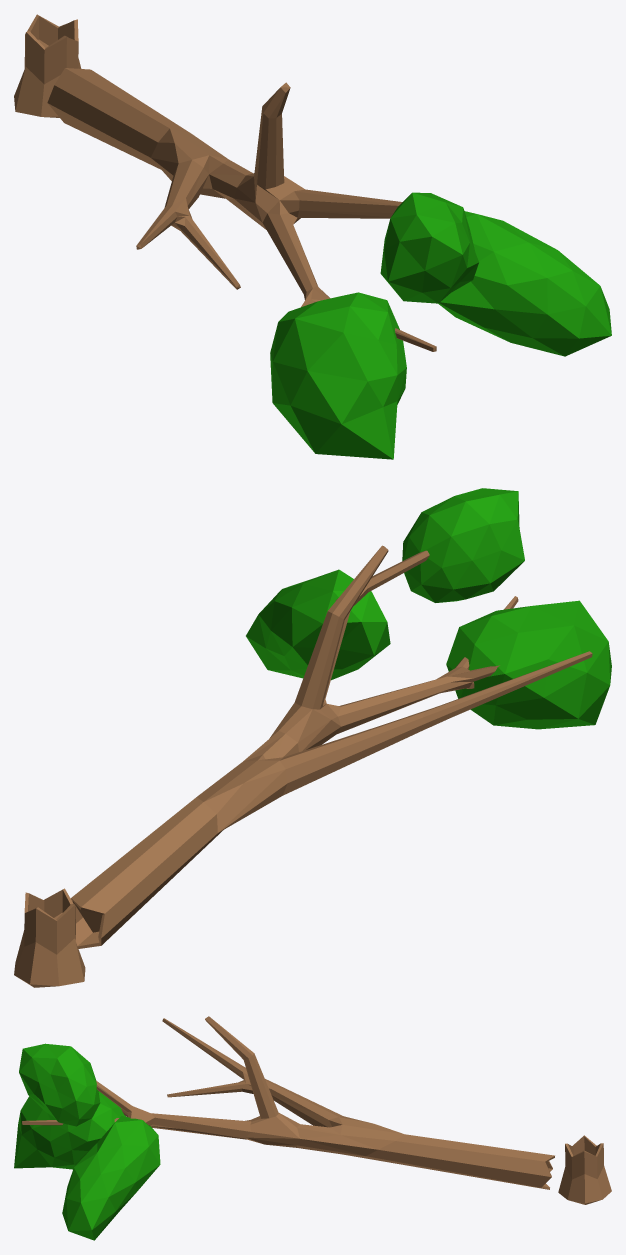
Rendered from Tree_4 Broken.fbx.
The picture shows the model from 3 angles, top to bottom: view 1: azimuth 30°, elevation 25°; view 2: azimuth 150°, elevation 25°; view 3: azimuth 270°, elevation 25°; orthographic projection. The views are drawn at different scales.
Parts seen in each view (by area): view 1: Tree4Broken_mesh; view 2: Tree4Broken_mesh; view 3: Tree4Broken_mesh.
Boxes of the visible parts, x1=… form: Tree4Broken_mesh: x1=14, y1=14, x2=611, y2=459; Tree4Broken_mesh: x1=14, y1=488, x2=611, y2=987; Tree4Broken_mesh: x1=14, y1=1016, x2=611, y2=1240.
Bounding box in the file's own units: 389 × 228 × 747.
